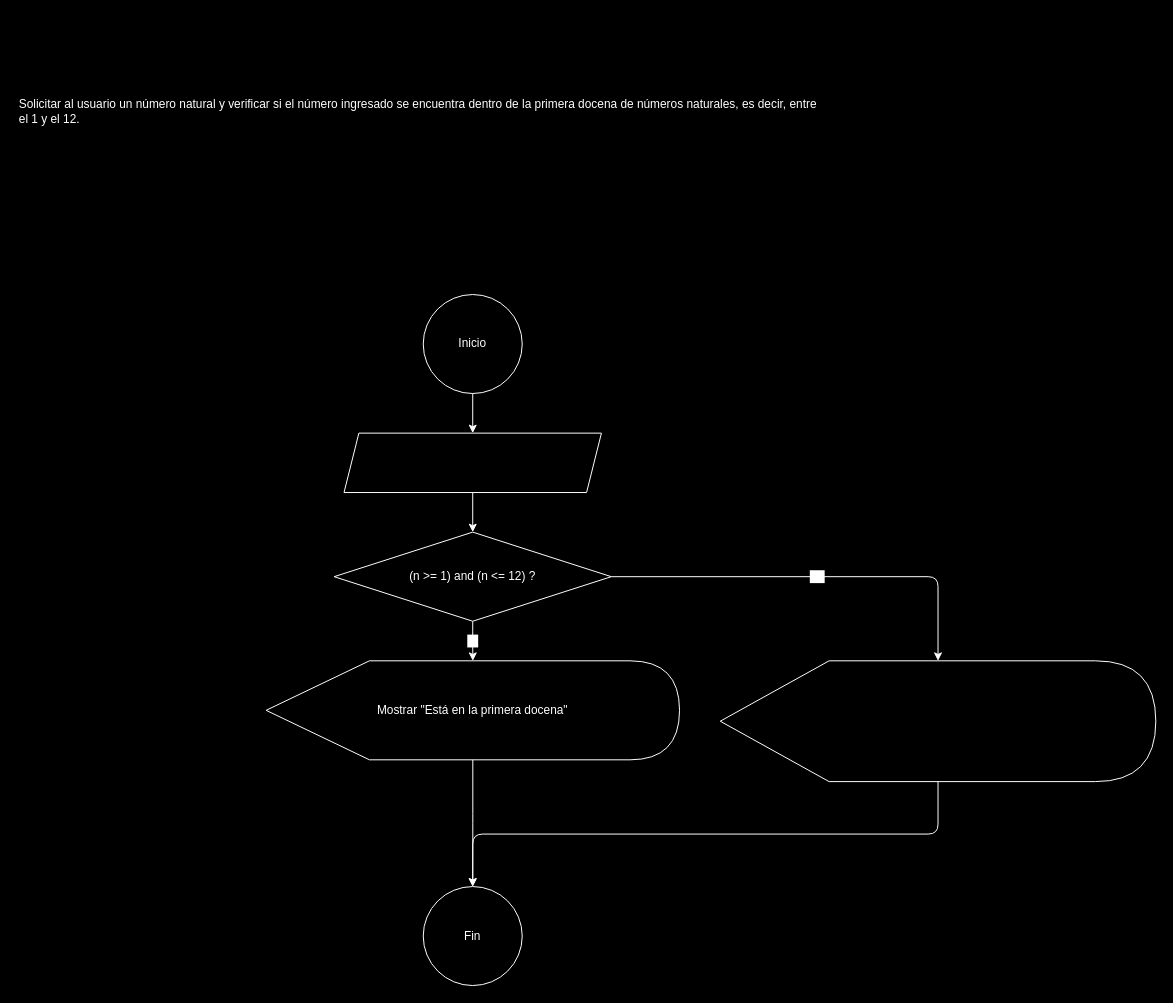
Image size: 1173x1003. Some labels were removed from this diagram. Here are the shapes that lost their labels. From the top down, the centre of each, then its label:
point 472,462: Leer n
point 937,721: Mostrar "No está en la primera docena"
